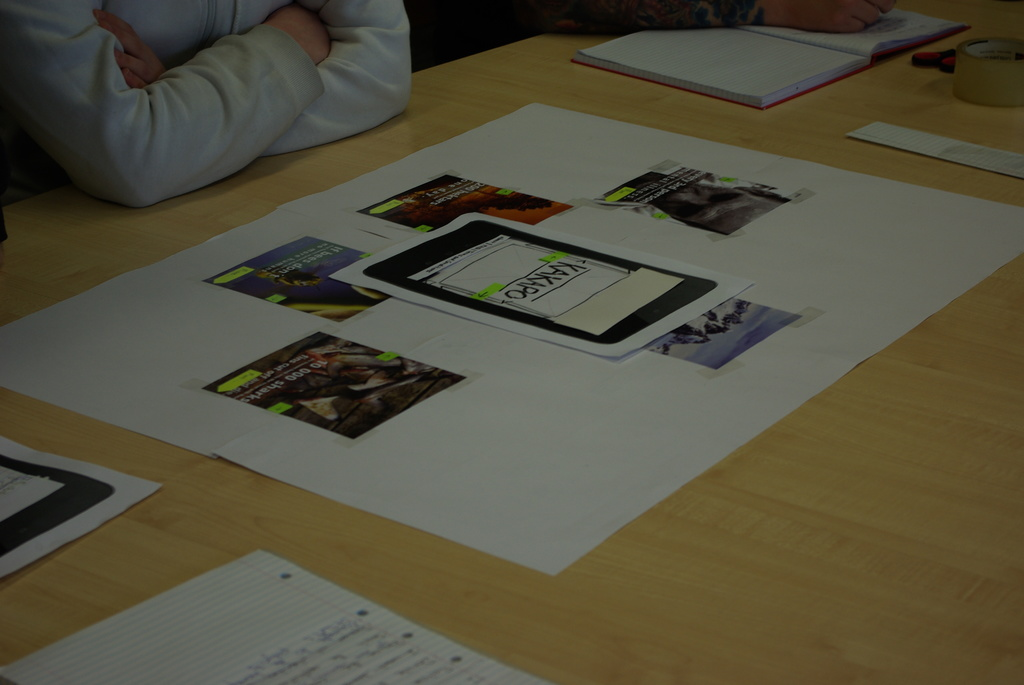Human_hand: (93, 8, 167, 88), (270, 4, 333, 63)
